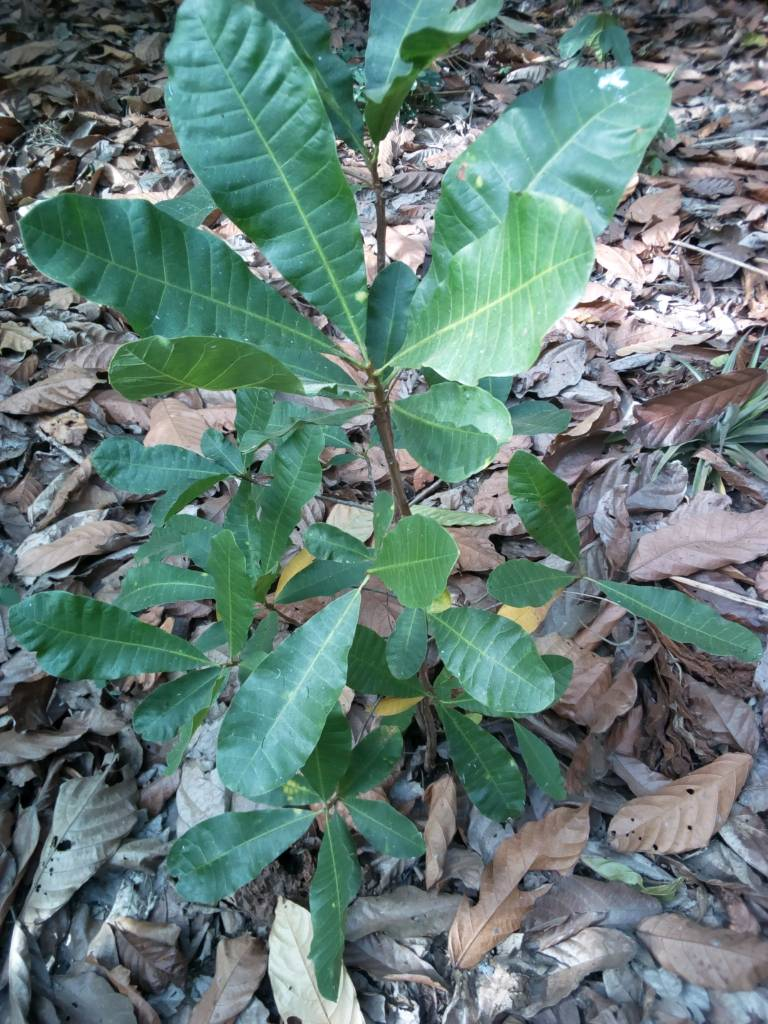Helopeltis anacardii: (155, 2, 363, 325), (4, 589, 202, 683), (94, 433, 222, 497)
